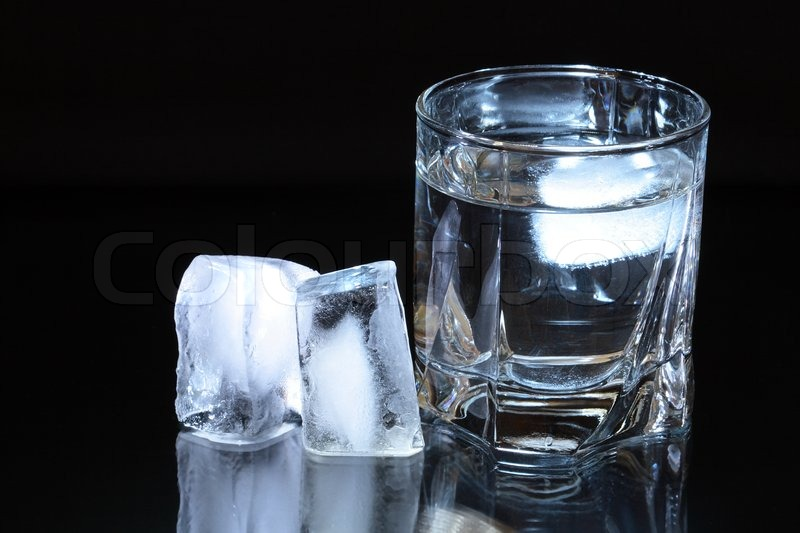glass of water: (413, 70, 709, 440)
